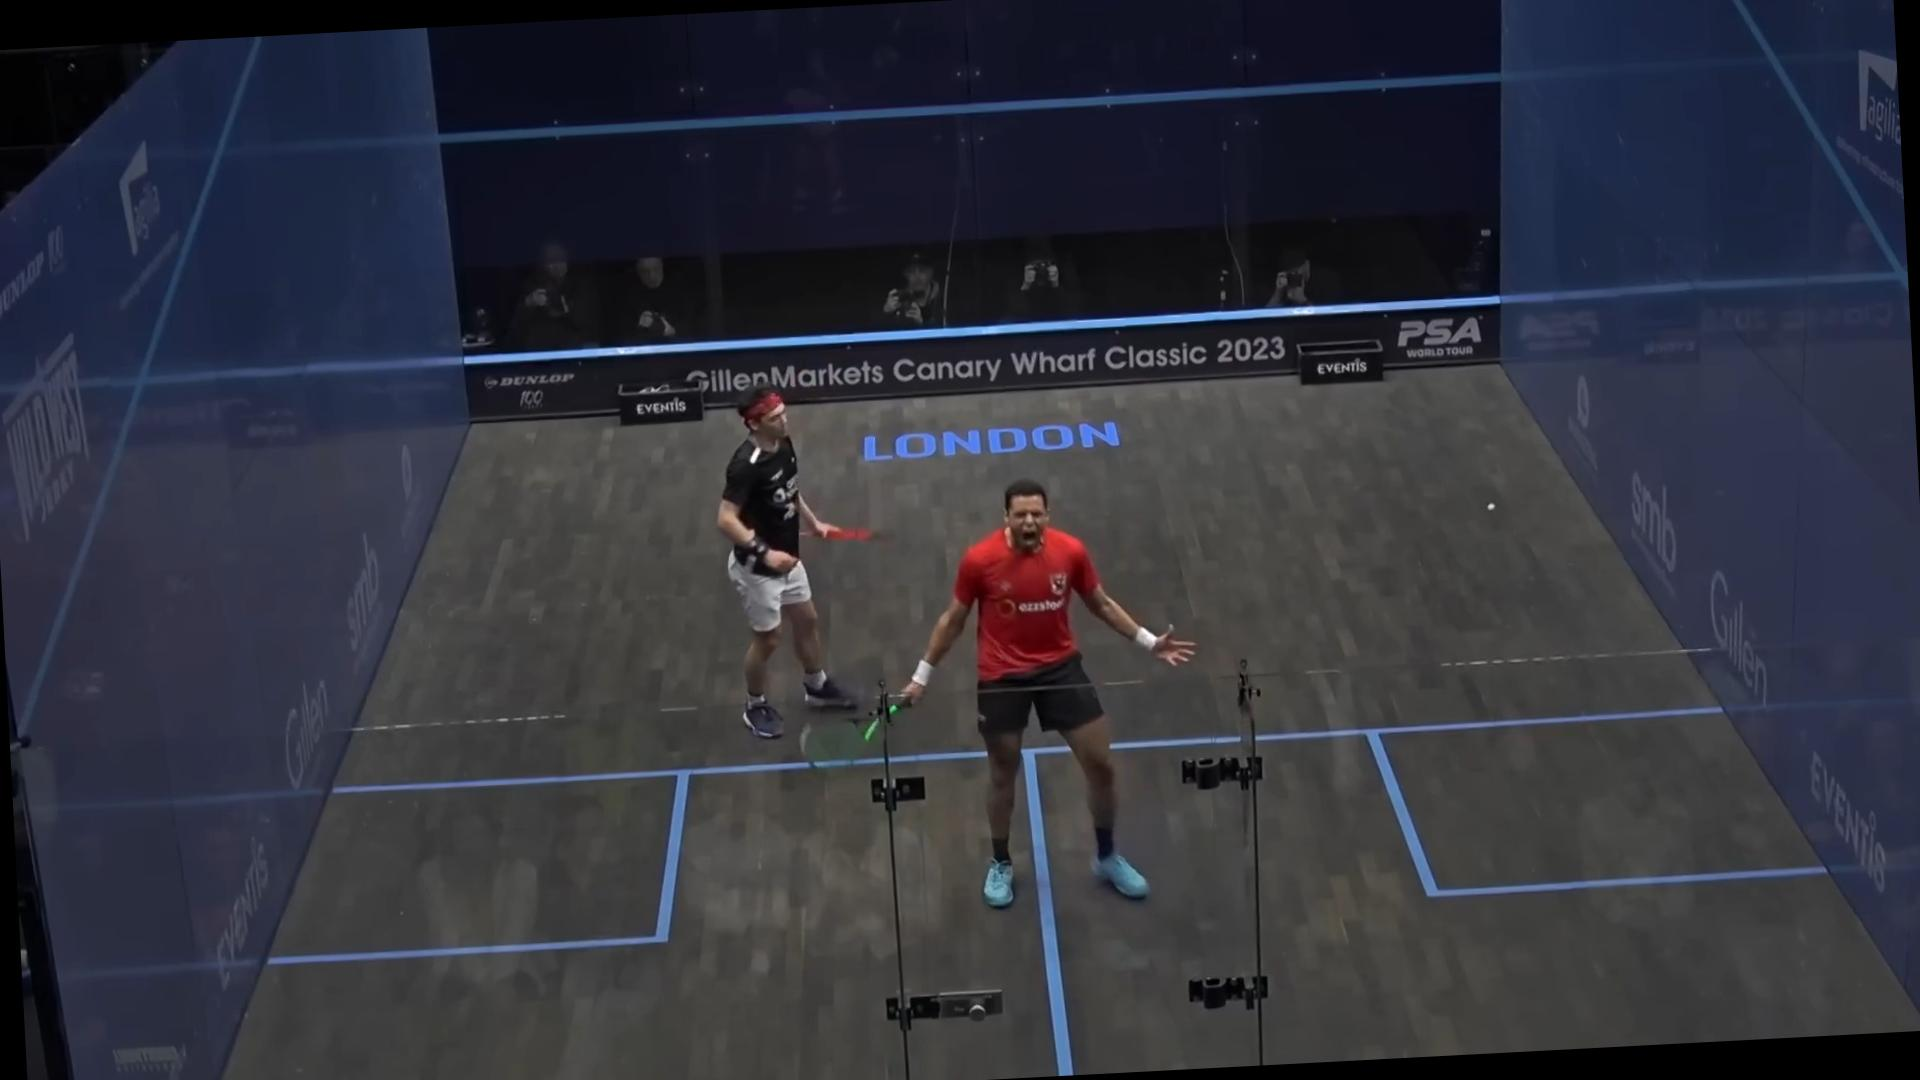Racket: (787, 703, 915, 789)
